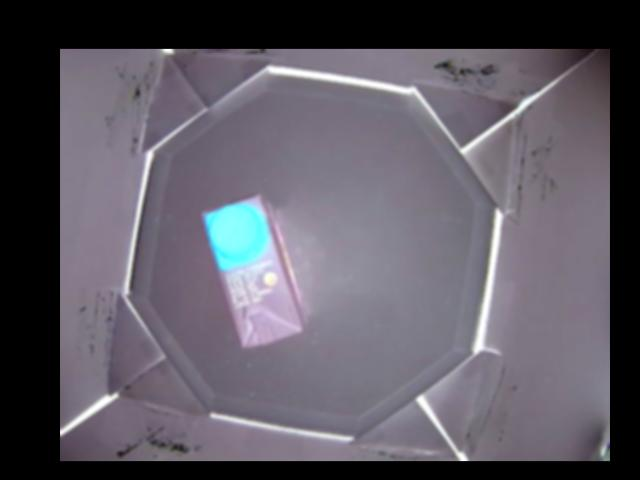Bottle: (203, 188, 307, 347)
